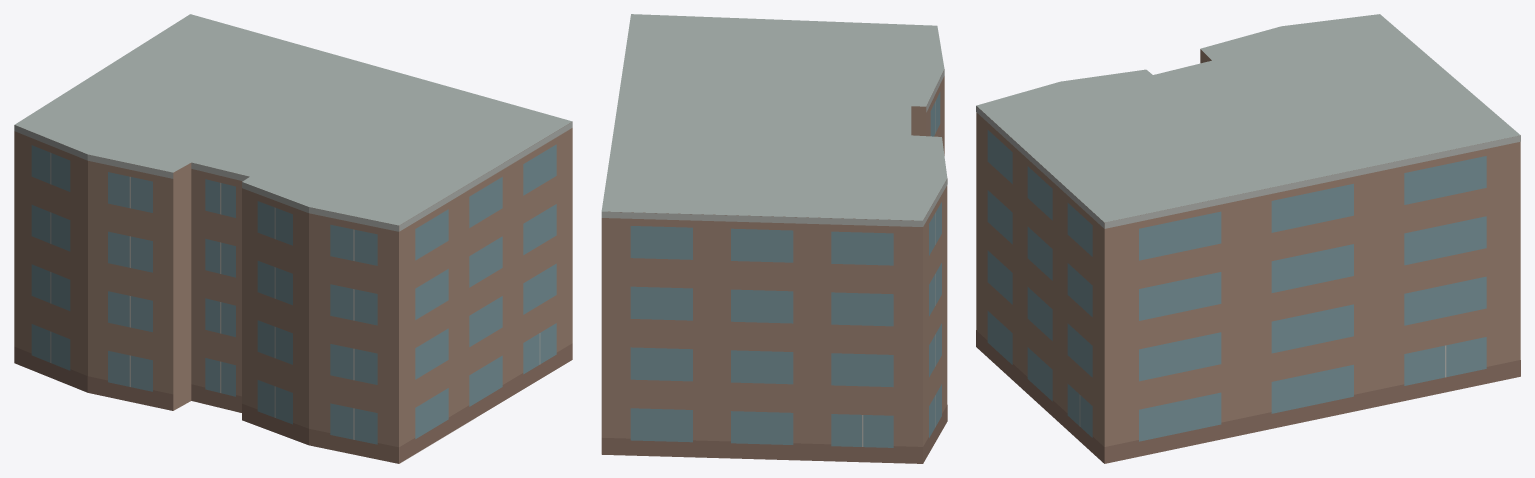
File: survey-upis-32726824.glb
3 renders of one model, left to right at view 1: azimuth 30°, elevation 25°; view 2: azimuth 150°, elevation 25°; view 3: azimuth 270°, elevation 25°, orthographic. The views are drawn at different scales.
Parts seen in each view (by area): view 1: survey-upis-32726824.tmp; view 2: survey-upis-32726824.tmp; view 3: survey-upis-32726824.tmp.
Boxes of the visible parts, x1,y1,x2,y2 form: survey-upis-32726824.tmp: [14, 14, 572, 463]; survey-upis-32726824.tmp: [601, 14, 947, 463]; survey-upis-32726824.tmp: [976, 14, 1520, 463].
Size of the model in its own units: 17.16 by 9.25 by 18.93.
